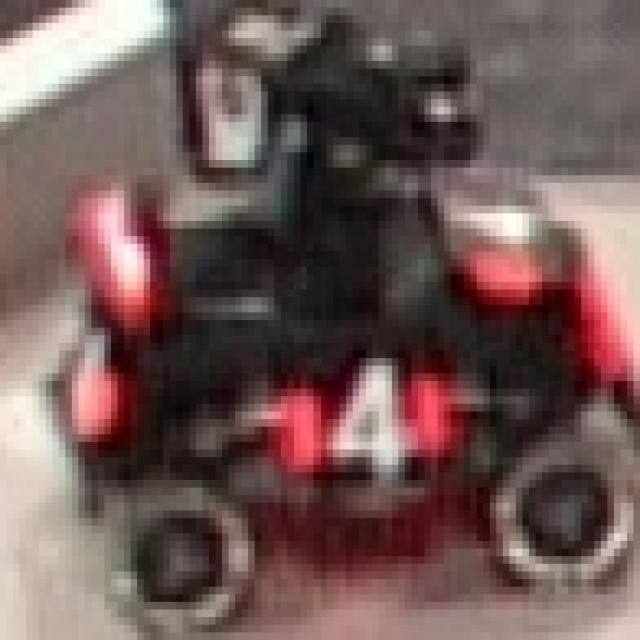R4: (280, 350, 450, 480)
